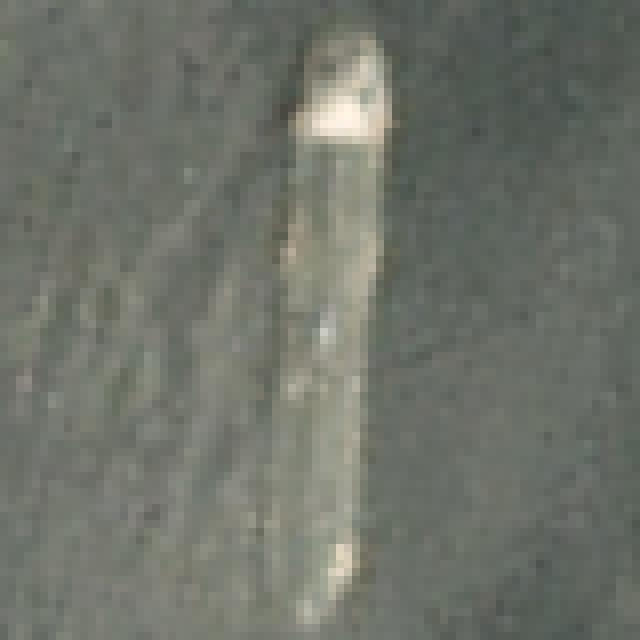ship: (248, 4, 421, 640)
